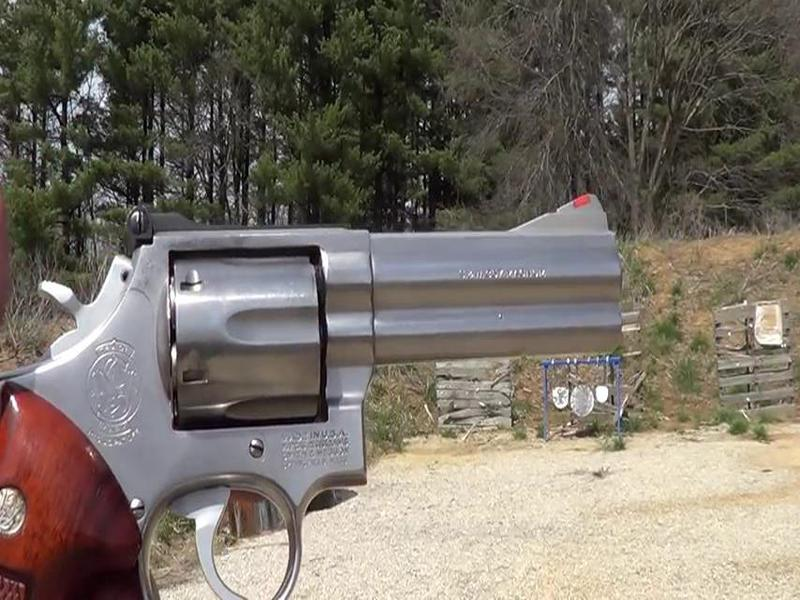Revolver: (29, 177, 657, 515)
